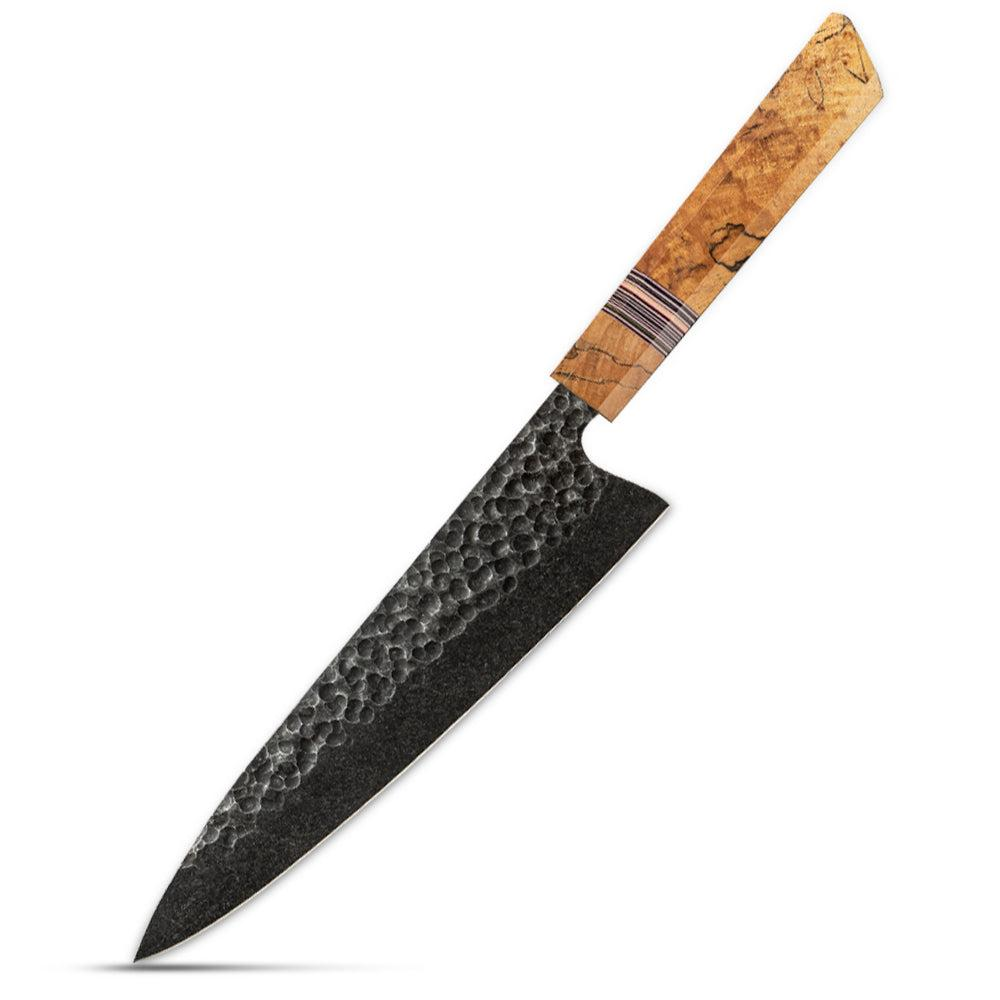Knife: (131, 10, 883, 961)
